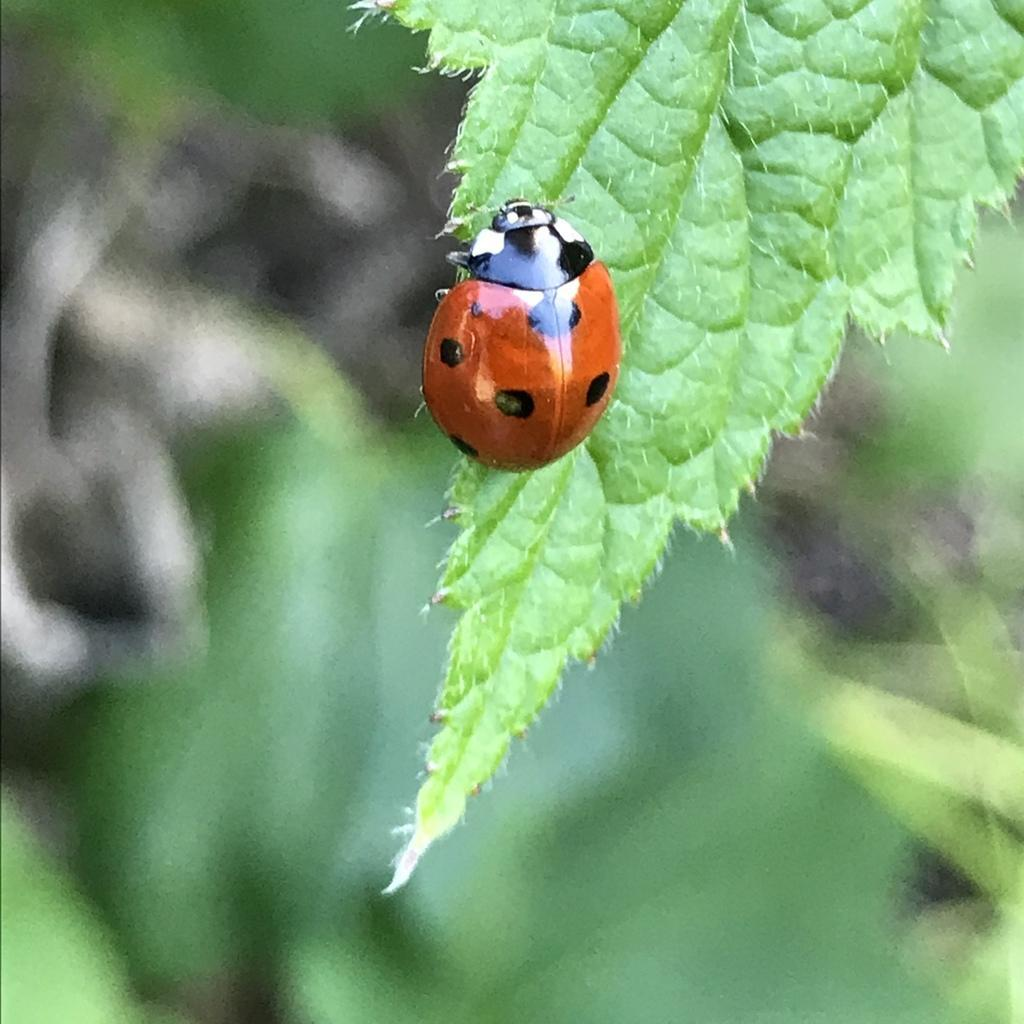ladybug: (419, 194, 629, 476)
